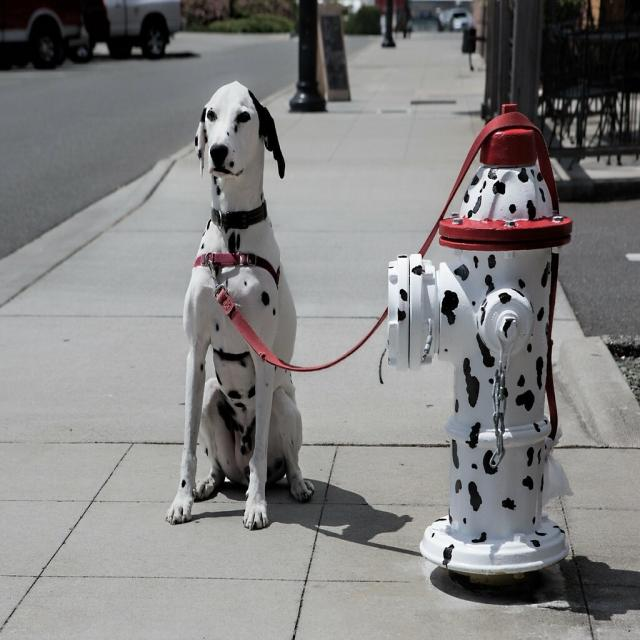fire_hydrant: (352, 69, 616, 611)
